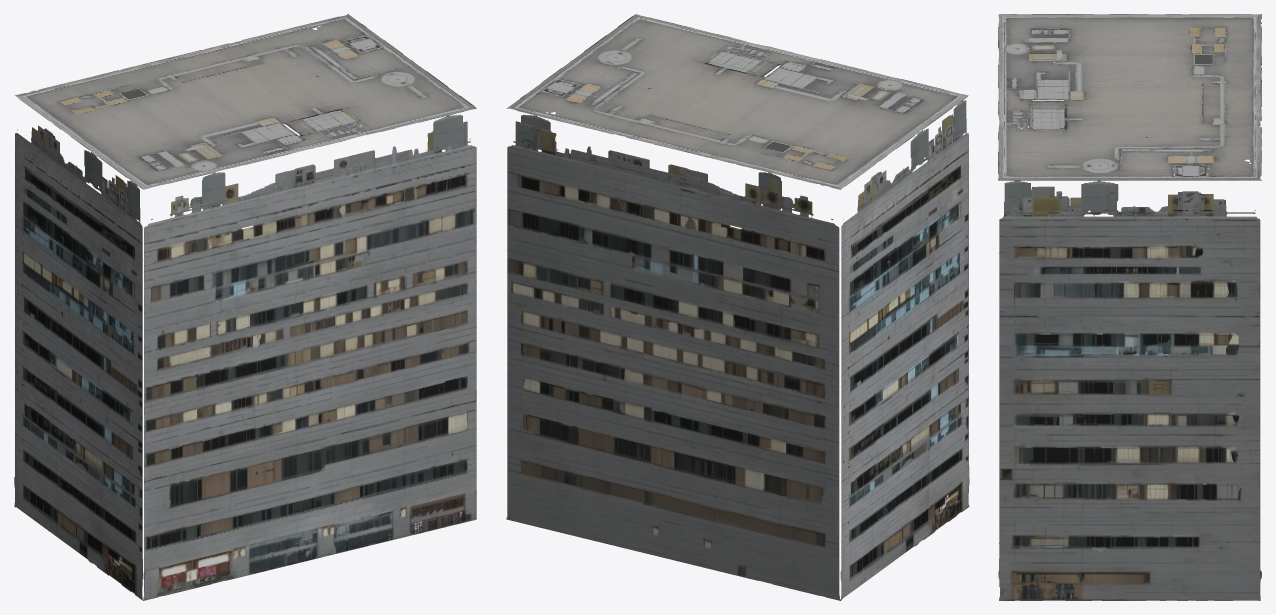
File: city_office_a.1.glb
The picture shows the model from 3 angles, left to right: view 1: azimuth 30°, elevation 25°; view 2: azimuth 150°, elevation 25°; view 3: azimuth 270°, elevation 25°; orthographic projection. The views are drawn at different scales.
Visible parts, largest first — view 1: lod; view 2: lod; view 3: lod.
Boxes of the visible parts, x1=… form: lod: x1=14, y1=14, x2=476, y2=600; lod: x1=506, y1=14, x2=969, y2=600; lod: x1=998, y1=14, x2=1261, y2=600.
Size of the model in its own units: 0.8471 by 0.9952 by 0.566.
Materials: 1 (1 with a texture image).
